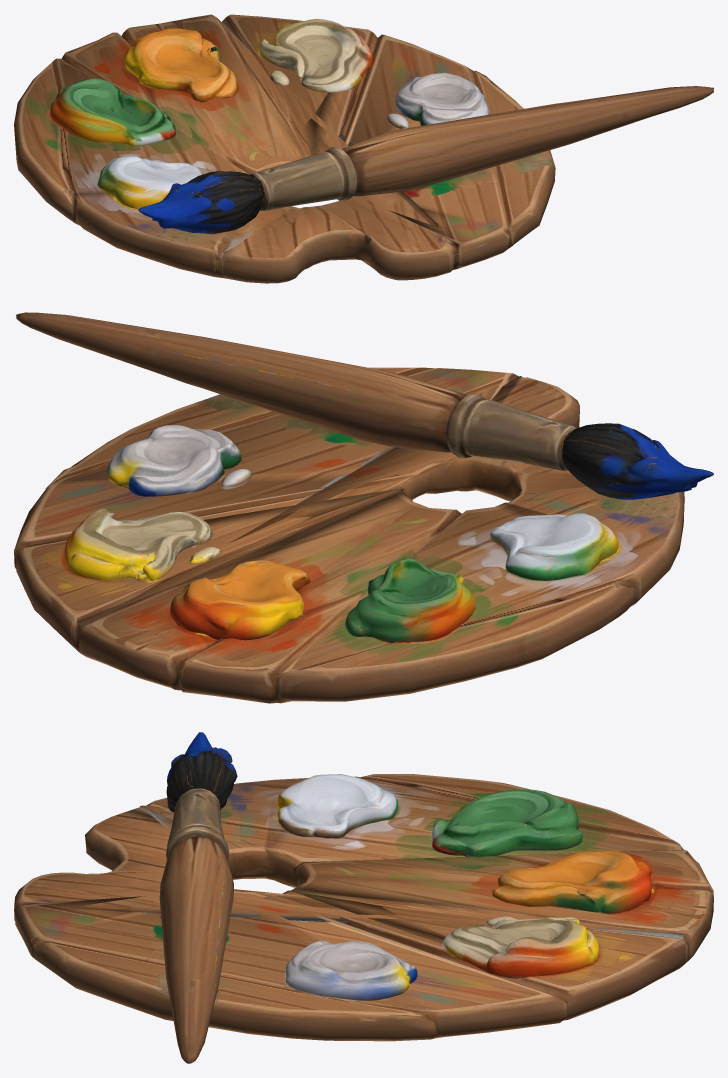
File: palette.glb
3 renders of one model, top to bottom at view 1: azimuth 30°, elevation 25°; view 2: azimuth 150°, elevation 25°; view 3: azimuth 270°, elevation 25°, orthographic. The views are drawn at different scales.
Bounding box in the file's own units: 0.9556 × 0.1313 × 0.896.
Materials: 1 (1 with a texture image).
